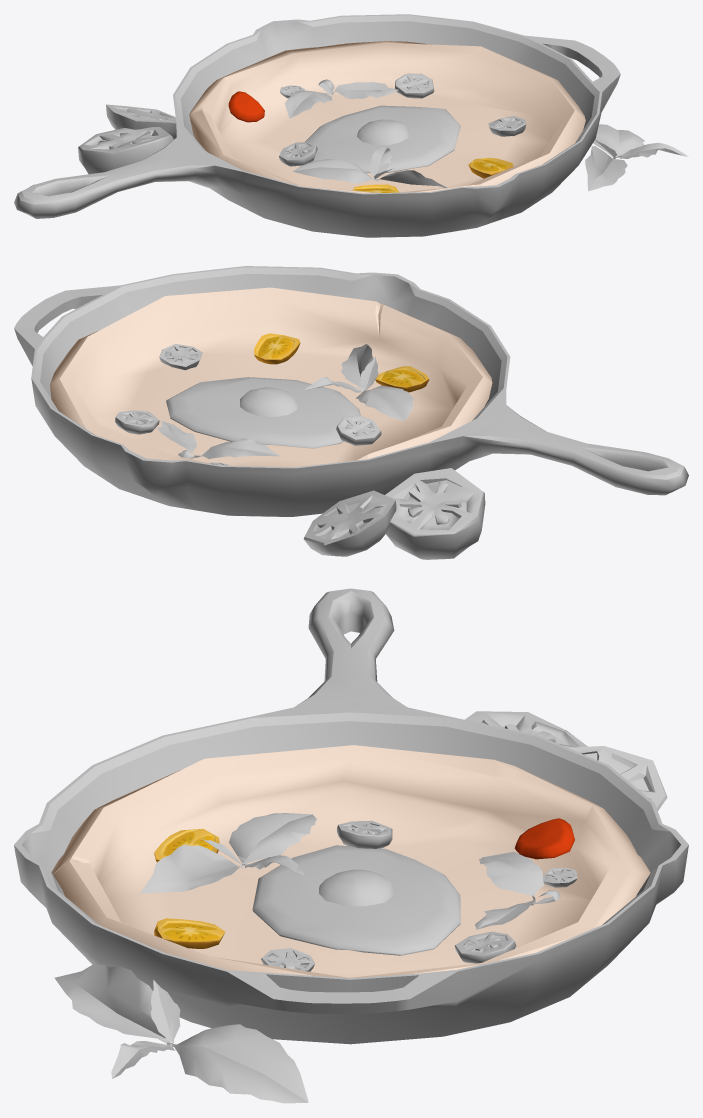
The model's file is PizzaInPan02.fbx.
The picture shows the model from 3 angles, top to bottom: view 1: azimuth 30°, elevation 25°; view 2: azimuth 150°, elevation 25°; view 3: azimuth 270°, elevation 25°; orthographic projection. The views are drawn at different scales.
Visible parts, largest first — view 1: CastIonPan_, PizzaCrust01, PizzaEgg01, tomato01, basilClump03, basilClump01, basilClump02, tomato02, tomato05, tomato07, tomato03, yellowTomato01 (+1 smaller); view 2: CastIonPan_, PizzaCrust01, PizzaEgg01, tomato01, tomato02, basilClump01, basilClump02, yellowTomato01, tomato03, yellowTomato02, tomato04, tomato05; view 3: CastIonPan_, PizzaCrust01, PizzaEgg01, basilClump03, basilClump01, basilClump02, tomato02, tomato01, tomato07, yellowTomato01, tomato05, tomato03 (+2 smaller).
Boxes of the visible parts, x1,y1,x2,y2 form: CastIonPan_: (14, 14, 620, 237); PizzaCrust01: (189, 41, 585, 193); PizzaEgg01: (305, 105, 460, 172); tomato01: (78, 127, 173, 174); basilClump03: (585, 124, 688, 191); basilClump01: (292, 147, 447, 187); basilClump02: (284, 79, 398, 118); tomato02: (106, 104, 176, 139); tomato05: (395, 73, 434, 98); tomato07: (228, 91, 264, 122); tomato03: (279, 142, 317, 166); yellowTomato01: (468, 157, 513, 178); CastIonPan_: (14, 266, 688, 516); PizzaCrust01: (50, 287, 492, 467); PizzaEgg01: (166, 377, 360, 448); tomato01: (385, 468, 485, 559); tomato02: (303, 490, 396, 556); basilClump01: (304, 344, 413, 421); basilClump02: (157, 420, 279, 459); yellowTomato01: (254, 333, 300, 364); tomato03: (336, 415, 381, 445); yellowTomato02: (375, 366, 429, 392); tomato04: (159, 343, 202, 370); tomato05: (115, 410, 159, 434); CastIonPan_: (14, 588, 688, 1044); PizzaCrust01: (51, 745, 650, 978); PizzaEgg01: (252, 845, 460, 955); basilClump03: (54, 964, 308, 1103); basilClump01: (140, 813, 316, 893); basilClump02: (475, 851, 560, 929); tomato02: (568, 746, 667, 810); tomato01: (465, 711, 587, 747); tomato07: (514, 818, 574, 859); yellowTomato01: (154, 918, 225, 948); tomato05: (454, 931, 516, 963); tomato03: (336, 820, 392, 848).
Bounding box in the file's own units: 174 × 21.06 × 115.
